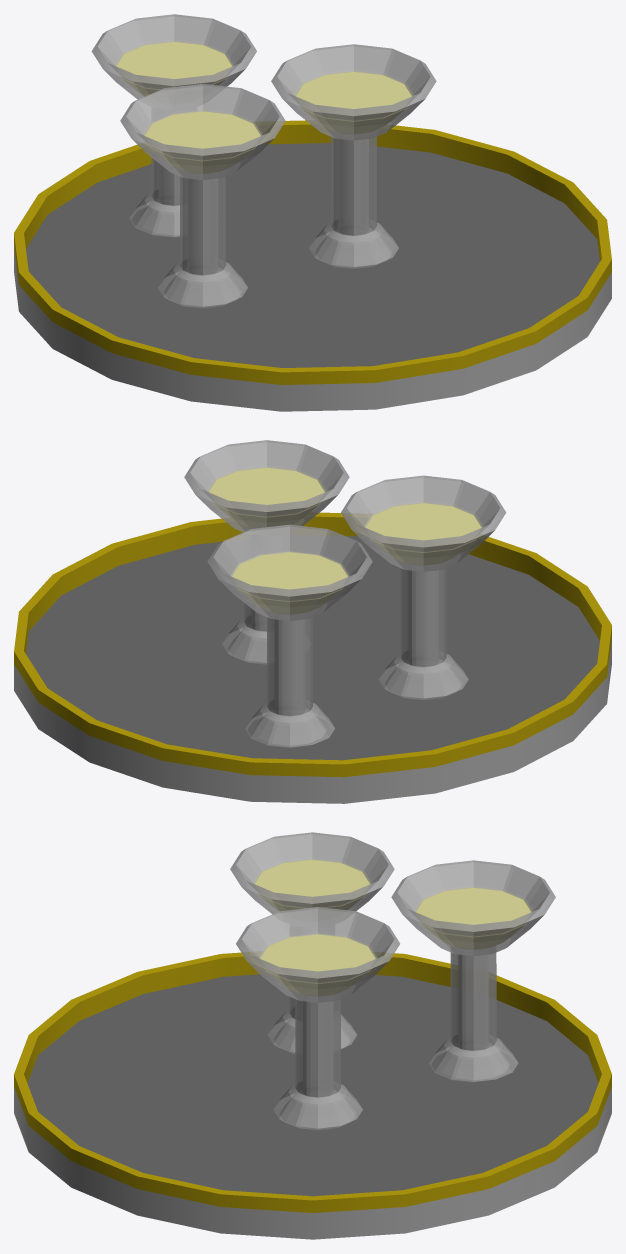
The model's file is tarjoitinW_drinks.fbx.
3 renders of one model, top to bottom at view 1: azimuth 30°, elevation 25°; view 2: azimuth 150°, elevation 25°; view 3: azimuth 270°, elevation 25°, orthographic.
Visible parts, largest first — view 1: tarjotiin1; view 2: tarjotiin1; view 3: tarjotiin1.
Boxes of the visible parts, box(x1,y1,x2,y2) form: tarjotiin1: box(14, 14, 611, 411); tarjotiin1: box(14, 440, 611, 803); tarjotiin1: box(14, 832, 611, 1239).
Bounding box in the file's own units: 33.22 × 11.96 × 33.22.
